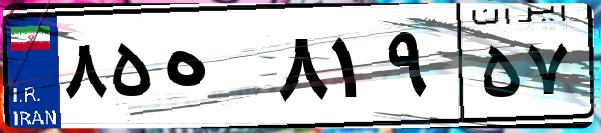1: (330, 28, 385, 110)
5: (475, 38, 525, 113), (110, 28, 158, 98)
7: (525, 38, 570, 115)
8: (270, 28, 330, 110), (57, 26, 110, 100)
9: (385, 28, 445, 110)
ه: (158, 20, 270, 120)
